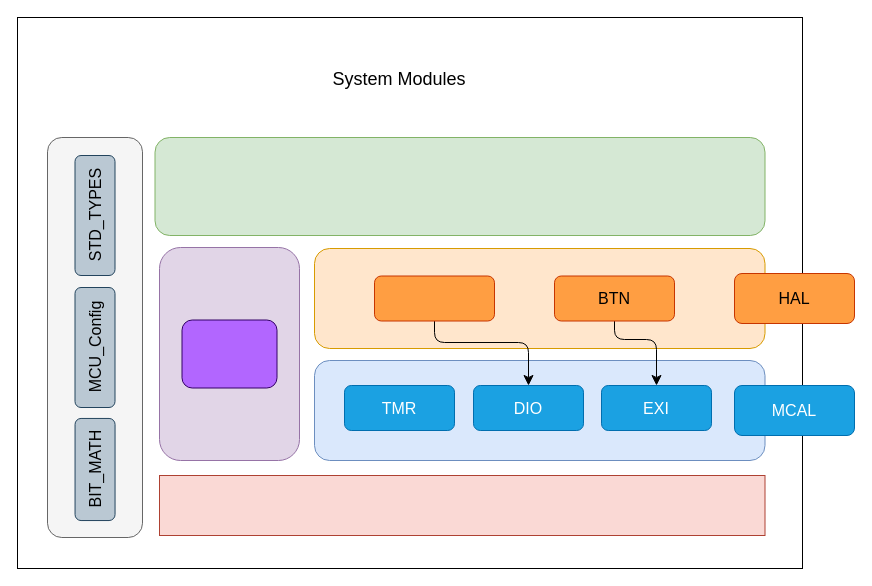
The diagram is 872 pixels wide and 586 high, and some of its shapes have lost their labels. The centre of each missing label's shape, as x and y in pixels:
"Application Layer" goes at (x=459, y=186).
"LED" goes at (x=434, y=298).
"Microcontroller" goes at (x=461, y=505).
"SOS" goes at (x=229, y=353).
